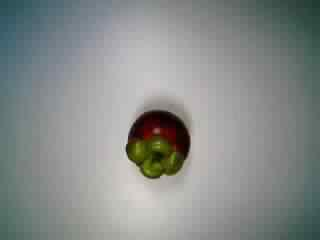mangosteen: (120, 108, 196, 182)
